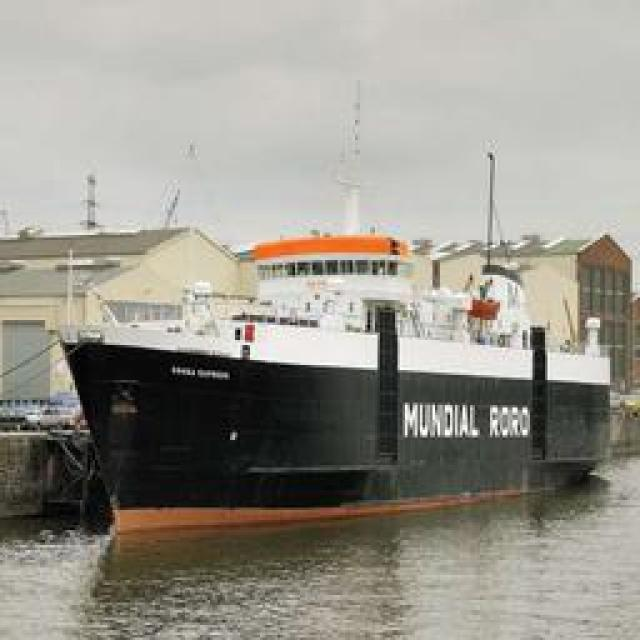ship2: (62, 237, 614, 547)
